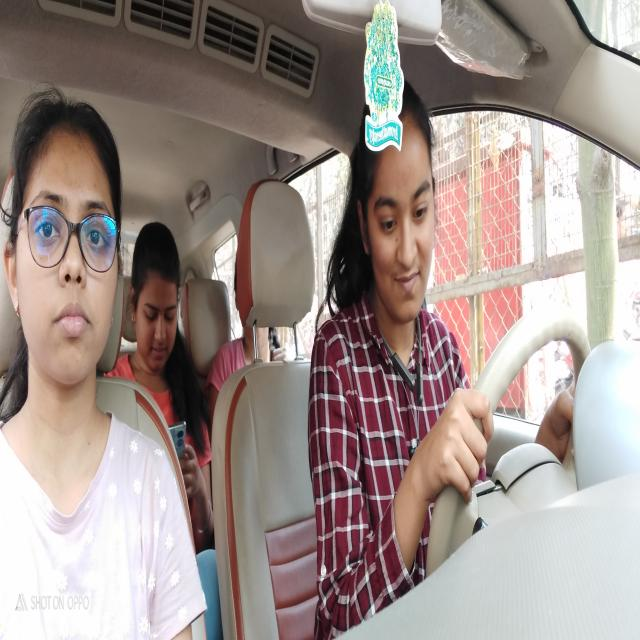person: (6, 88, 135, 369), (346, 81, 446, 320), (124, 209, 190, 390)
